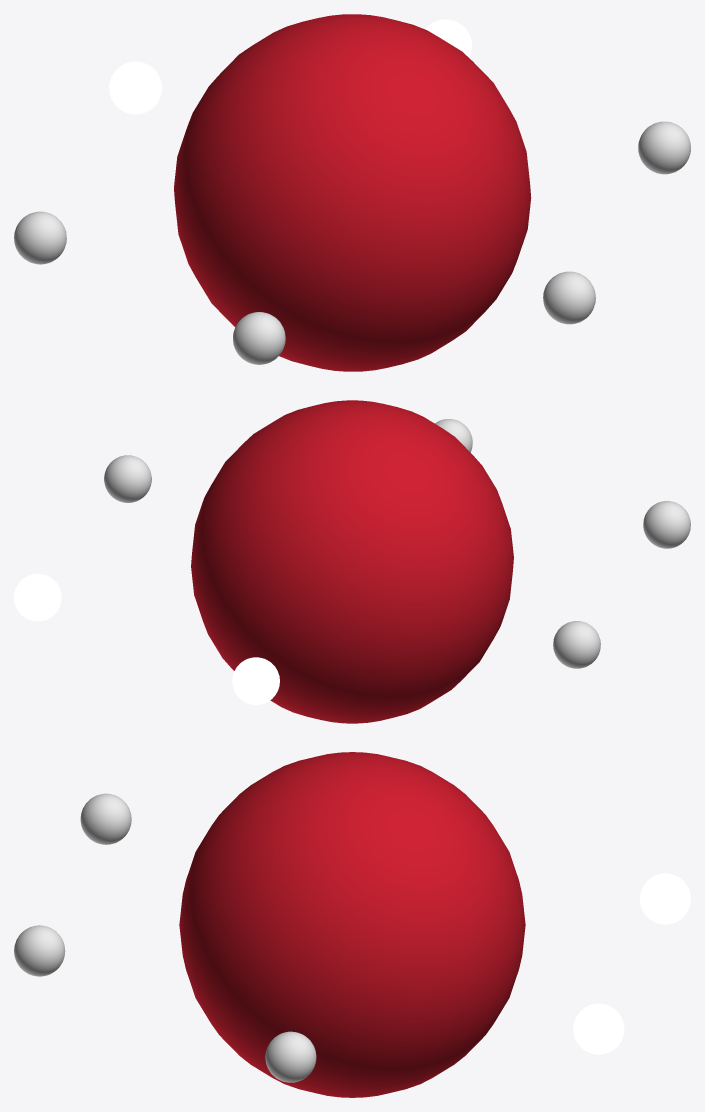
File: oxygen.glb
3 views of the same model, one above another, from view 1: azimuth 30°, elevation 25°; view 2: azimuth 150°, elevation 25°; view 3: azimuth 270°, elevation 25° (orthographic). The views are drawn at different scales.
Parts seen in each view (by area): view 1: Sphere.007, Sphere.002, Sphere.004, Sphere, Sphere.005, Sphere.006, Sphere.001; view 2: Sphere.007, Sphere.001, Sphere.005, Sphere.004, Sphere.006, Sphere, Sphere.002; view 3: Sphere.007, Sphere.001, Sphere, Sphere.002, Sphere.005, Sphere.006.
Part boxes in pixels (x1,y1,x2,y2): Sphere.007: [174, 14, 531, 371]; Sphere.002: [543, 271, 595, 324]; Sphere.004: [14, 211, 66, 264]; Sphere: [109, 61, 161, 114]; Sphere.005: [638, 121, 690, 174]; Sphere.006: [233, 312, 285, 364]; Sphere.001: [425, 19, 472, 57]; Sphere.007: [191, 400, 513, 723]; Sphere.001: [14, 573, 61, 621]; Sphere.005: [104, 455, 151, 502]; Sphere.004: [553, 621, 600, 668]; Sphere.006: [643, 501, 690, 548]; Sphere: [232, 657, 279, 704]; Sphere.002: [435, 419, 472, 452]; Sphere.007: [179, 752, 525, 1097]; Sphere.001: [573, 1003, 624, 1054]; Sphere: [639, 873, 690, 924]; Sphere.002: [14, 925, 65, 976]; Sphere.005: [265, 1031, 316, 1082]; Sphere.006: [80, 793, 131, 844].
Bounding box in the file's own units: 10.99 × 5.62 × 10.99.
